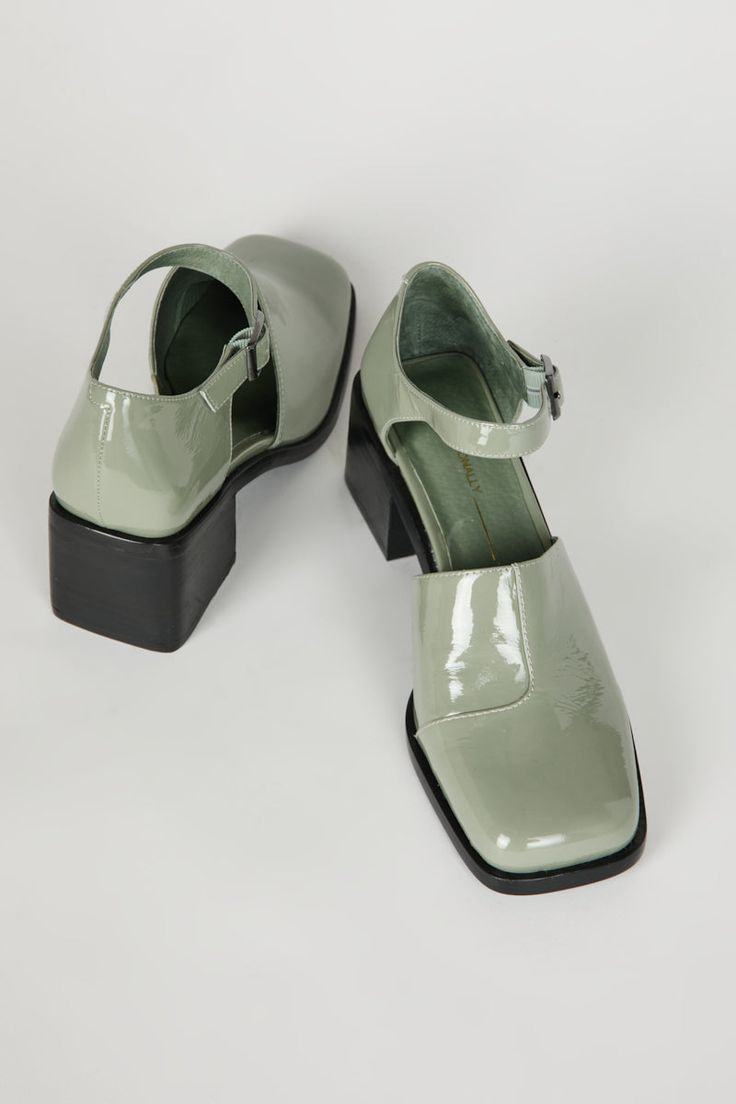cuero: (53, 265, 640, 872)
